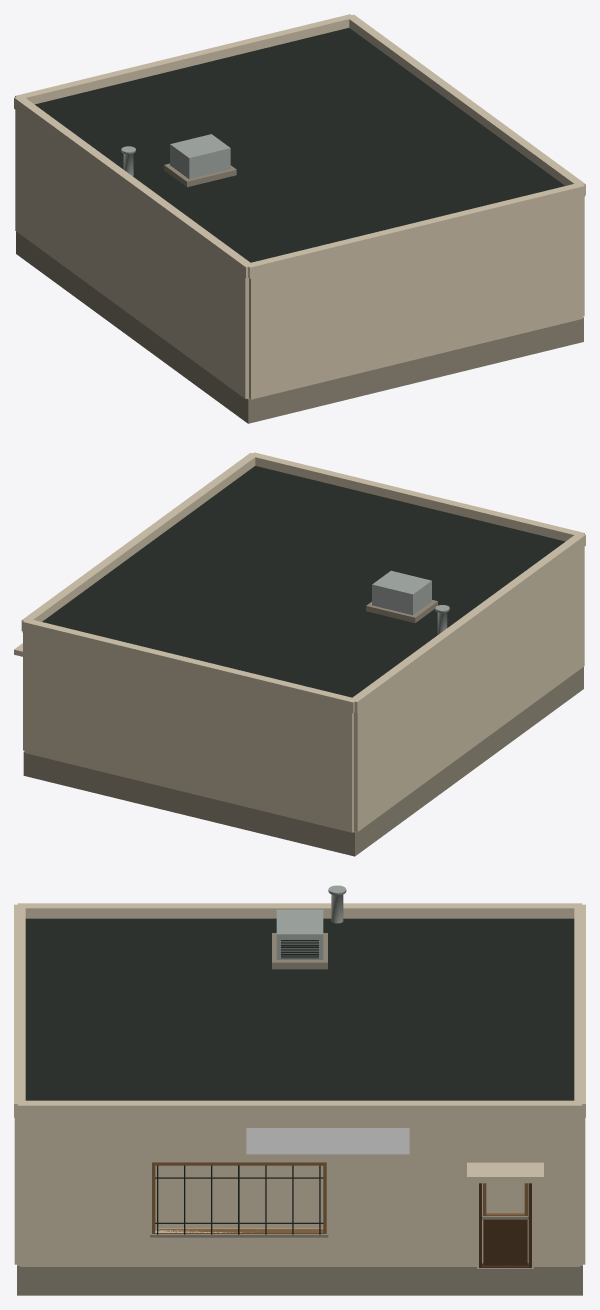
File: SM_Town_Sheriff_Shell.fbx
3 renders of one model, top to bottom at view 1: azimuth 30°, elevation 25°; view 2: azimuth 150°, elevation 25°; view 3: azimuth 270°, elevation 25°, orthographic. The views are drawn at different scales.
Visible parts, largest first — view 1: SM_Town_Sheriff_Shell; view 2: SM_Town_Sheriff_Shell; view 3: SM_Town_Sheriff_Shell.
Boxes of the visible parts, x1,y1,x2,y2 form: SM_Town_Sheriff_Shell: (14, 14, 585, 423); SM_Town_Sheriff_Shell: (14, 452, 585, 856); SM_Town_Sheriff_Shell: (14, 885, 585, 1295).
Size of the model in its own units: 10.96 by 12.25 by 5.07.
